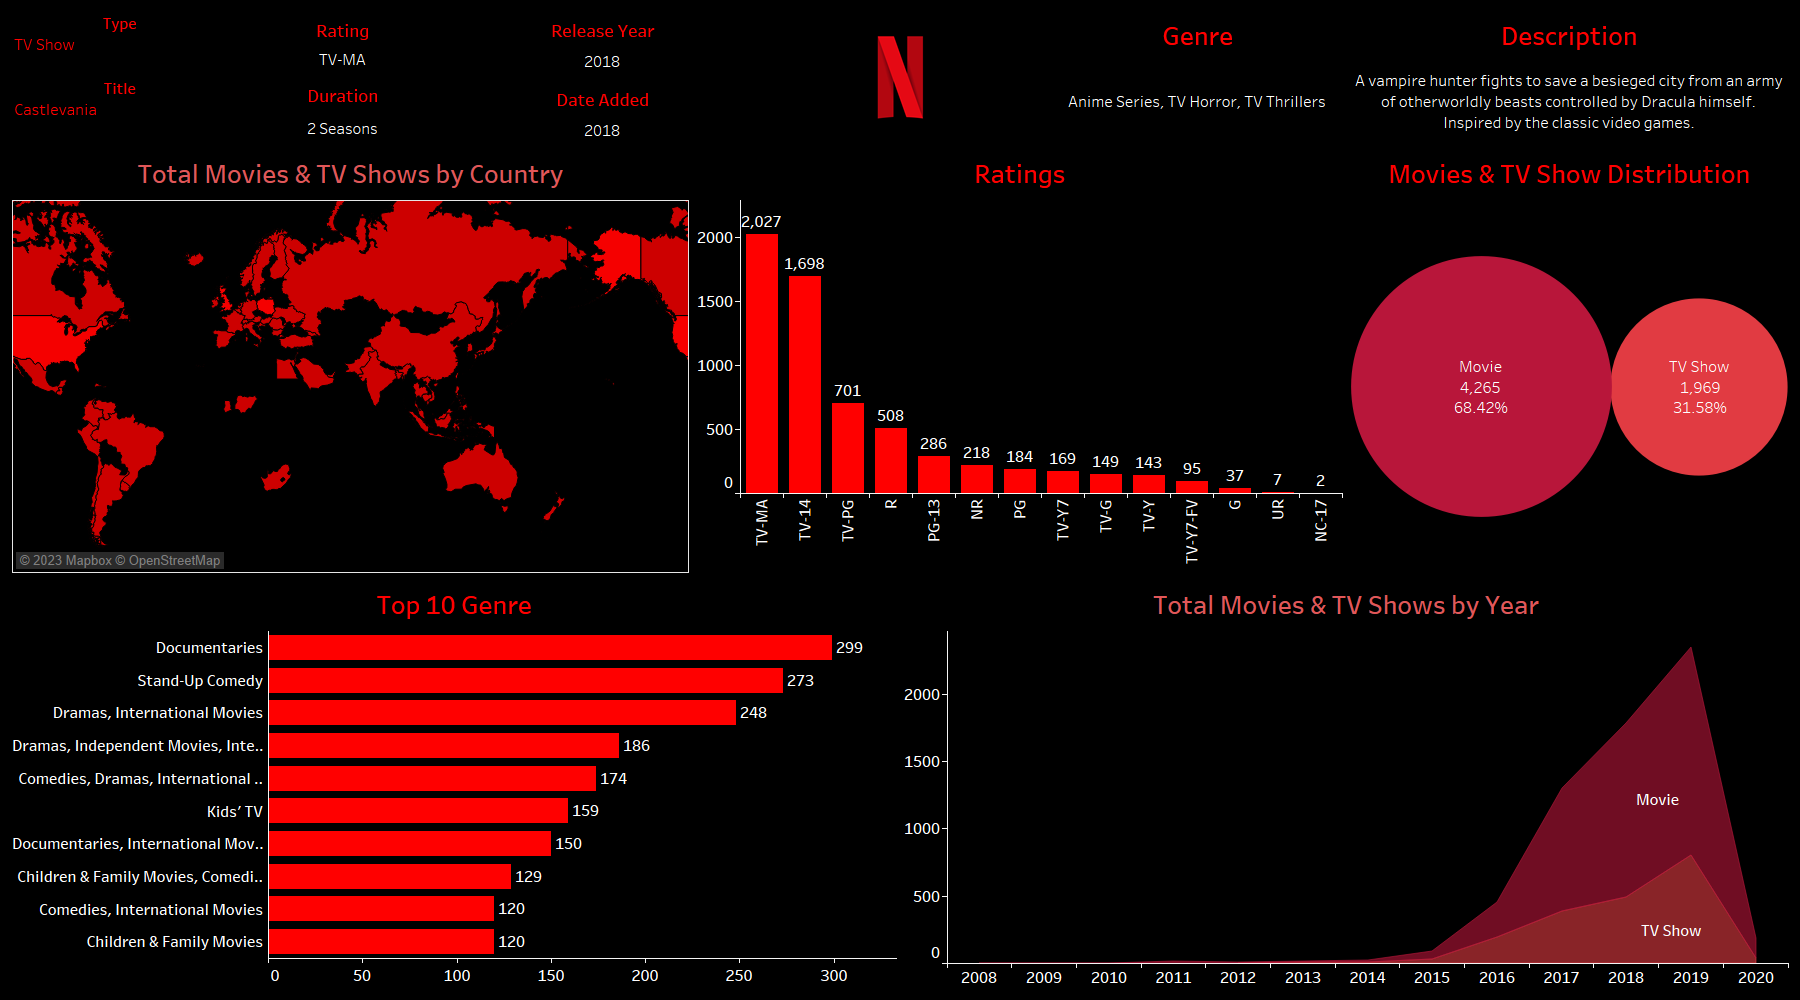

What the dashboard file says about the page in this screenshot:
{"tool":"tableau","page":{"name":"Netflix","canvas":[1800,1000],"ordinal":0},"visuals":[{"type":"filter","title":"Description","param":"[federated.19mci56115lomc1ck11rk143lxf7].[none:type:nk]","box":[8,8,223,65]},{"type":"worksheet","title":"Ratings (2)","mark":"Automatic","box":[231,8,223,65]},{"type":"worksheet","title":"Release Year","mark":"Automatic","box":[454,8,297.3,69]},{"type":"image","param":"C:/Users/Ibiza/Desktop/myProjects/Netflix/netflix-logo-app-png-16.png","box":[751.3,8,297.4,138]},{"type":"worksheet","title":"Genre","mark":"Automatic","box":[1048.7,8,297.3,138]},{"type":"worksheet","title":"Description","mark":"Automatic","box":[1346,8,446,138]},{"type":"filter","title":"Description","param":"[federated.19mci56115lomc1ck11rk143lxf7].[none:title:nk]","box":[8,73,223,73]},{"type":"worksheet","title":"Duration","mark":"Automatic","box":[231,73,223,73]},{"type":"worksheet","title":"Date Added","mark":"Automatic","box":[454,77,297.3,69]},{"type":"worksheet","title":" Total Movies & TV Shows by Country","mark":"Multipolygon","box":[8,146,685,430.8]},{"type":"worksheet","title":"Ratings","mark":"Automatic","rows":["show_id"],"cols":["rating"],"box":[693,146,653,430.8]},{"type":"worksheet","title":"Movies & TV Show Distribution","mark":"Circle","box":[1346,146,446,430.8]},{"type":"worksheet","title":"Top 10 Genres","mark":"Automatic","rows":["listed_in"],"cols":["show_id"],"box":[8,576.8,892,415.2]},{"type":"worksheet","title":"Total Movies & TV shows","mark":"Area","rows":["show_id"],"cols":["date_added"],"box":[900,576.8,892,415.2]}]}

Visuals, with their boxes in screenshot pixels (x1, y1, x2, y2), scaled from the page's 1800x1000 canvas onto the 1800x1000 screenshot:
"Description" filter: [8,8,231,73]
"Ratings (2)" worksheet: [231,8,454,73]
"Release Year" worksheet: [454,8,751,77]
image: [751,8,1049,146]
"Genre" worksheet: [1049,8,1346,146]
"Description" worksheet: [1346,8,1792,146]
"Description" filter: [8,73,231,146]
"Duration" worksheet: [231,73,454,146]
"Date Added" worksheet: [454,77,751,146]
" Total Movies & TV Shows by Country" worksheet (Multipolygon marks): [8,146,693,577]
"Ratings" worksheet: [693,146,1346,577]
"Movies & TV Show Distribution" worksheet (Circle marks): [1346,146,1792,577]
"Top 10 Genres" worksheet: [8,577,900,992]
"Total Movies & TV shows" worksheet (Area marks): [900,577,1792,992]
